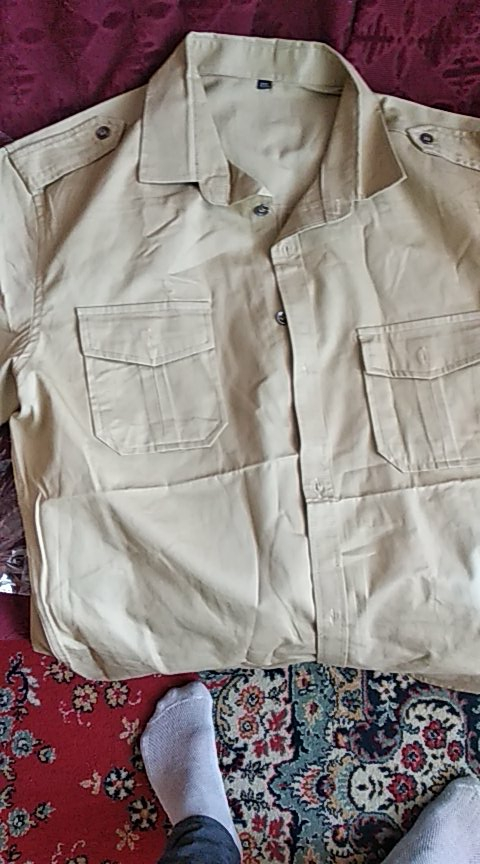shirts: (9, 32, 480, 658)
